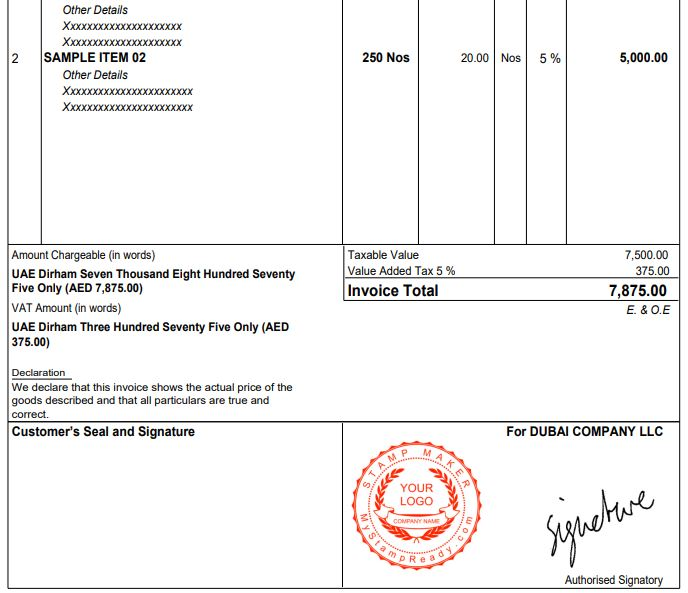Round chop: (349, 436, 483, 575)
